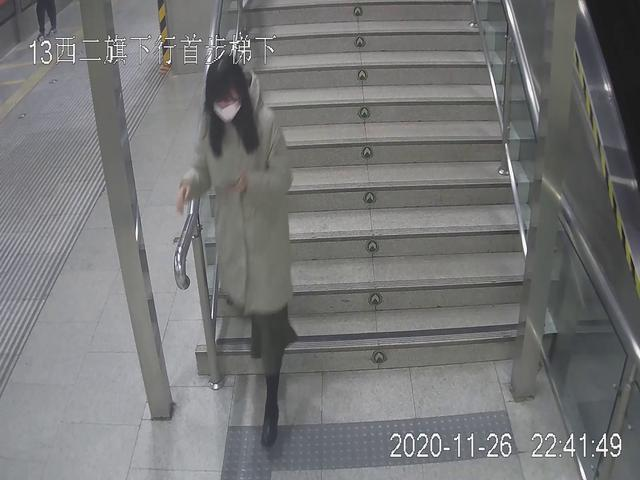person: (172, 51, 301, 451)
